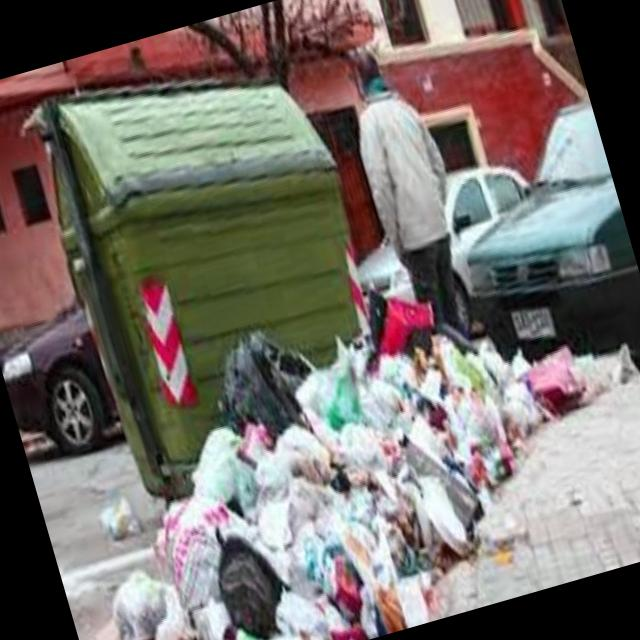high trash: (114, 298, 611, 640)
less trash: (99, 489, 140, 540)
